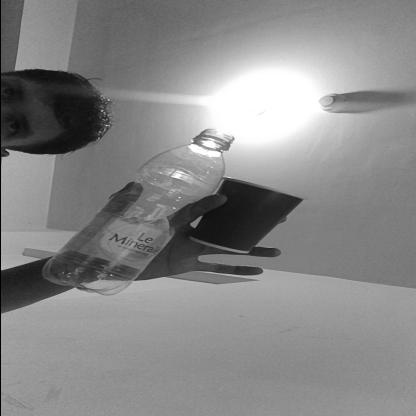objects: (189, 177, 299, 253)
plastic_bottles: (37, 128, 235, 296)
